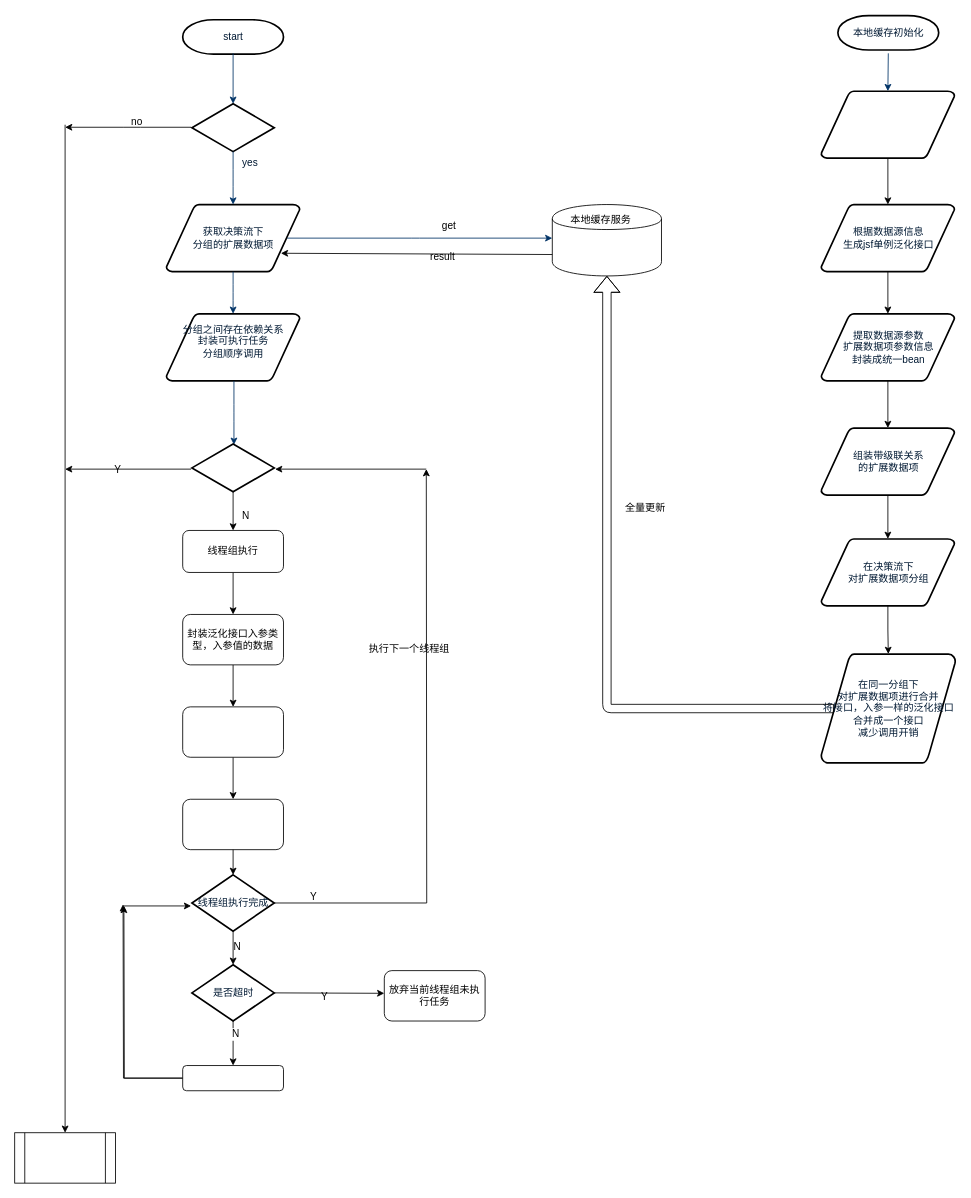
The diagram is 971 pixels wide and 1198 high, and some of its shapes have lost their labels. The shapes that lost their labels are listed below. From the top down, each one's box as (x1, y1, x2, y2) in pixels, then its label:
(191, 102, 275, 152): 参数验证
(820, 90, 955, 159): 获取数据源 扩展数据项信息 （后台jsf接口）
(191, 443, 275, 492): 全部执行完成
(182, 706, 284, 757): 接口泛化调用
(182, 798, 284, 850): 封装返回值，供被依赖接口使用
(182, 1065, 284, 1091): 阻塞等待
(14, 1132, 116, 1183): 最终结果
